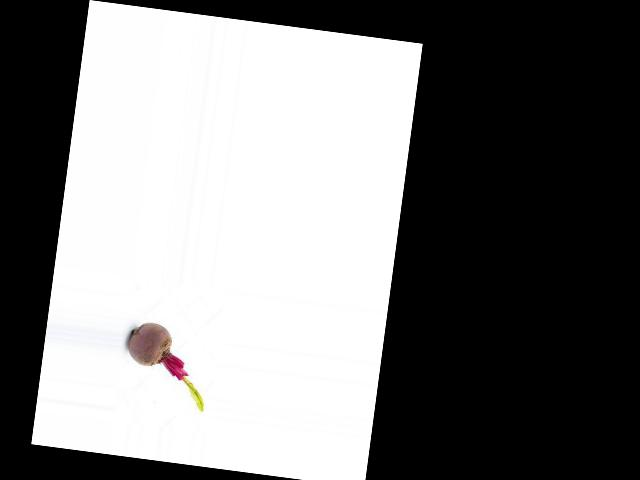beet: (121, 319, 213, 410)
